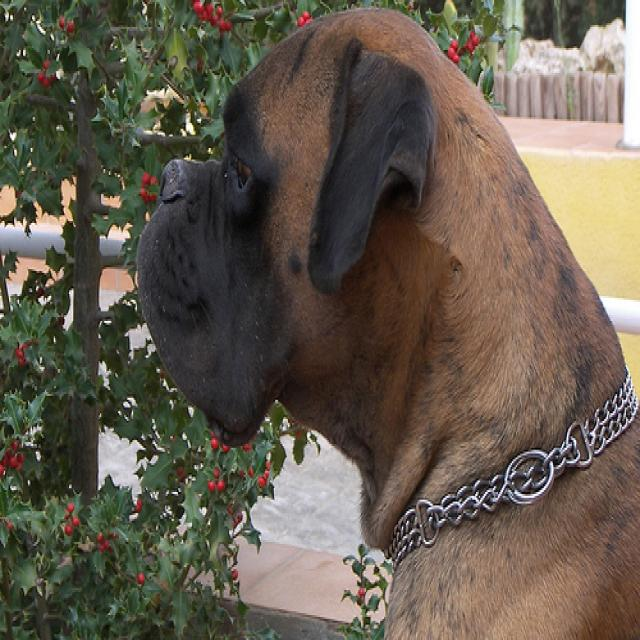dog: (136, 6, 435, 442)
